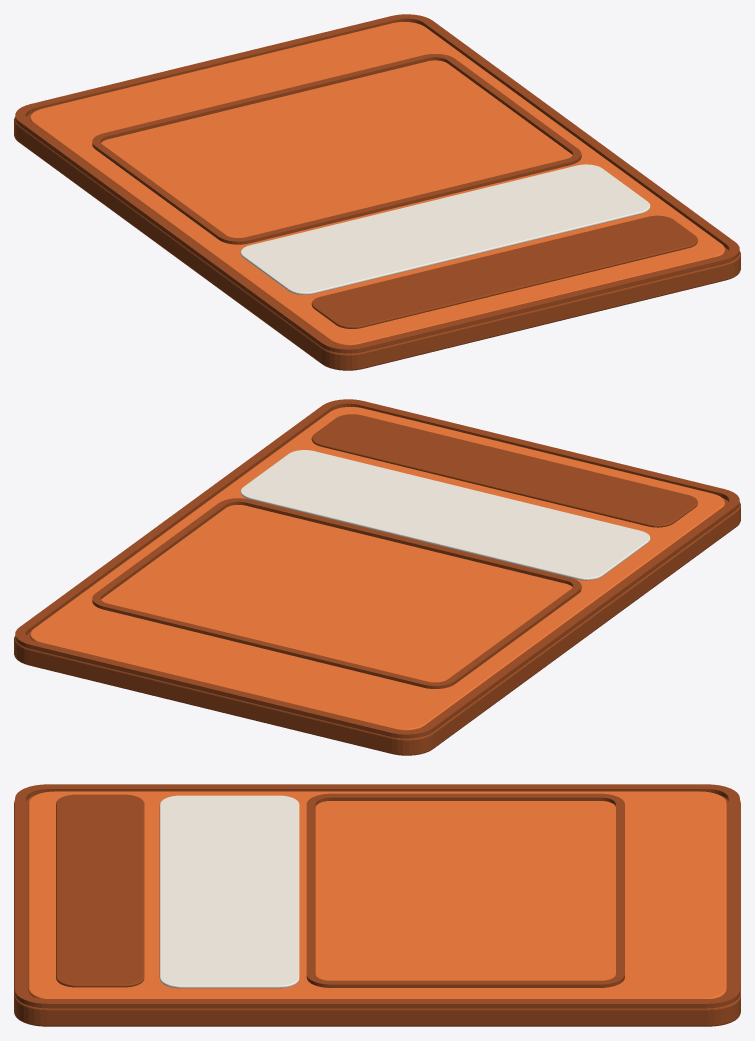
Rendered from card-shell.fbx.
3 renders of one model, top to bottom at view 1: azimuth 30°, elevation 25°; view 2: azimuth 150°, elevation 25°; view 3: azimuth 270°, elevation 25°, orthographic. The views are drawn at different scales.
Parts seen in each view (by area): view 1: Card_Colored_Face, Card_Description_Panel, Card_Outer_Border, Card_Buff_Panel, Card_Body, Card_Artwork_Frame; view 2: Card_Colored_Face, Card_Description_Panel, Card_Outer_Border, Card_Buff_Panel, Card_Body, Card_Artwork_Frame; view 3: Card_Colored_Face, Card_Description_Panel, Card_Outer_Border, Card_Buff_Panel, Card_Body, Card_Artwork_Frame.
Boxes of the visible parts, left/top/right/bottom form: Card_Colored_Face: left=30, top=22, right=724, bottom=345; Card_Description_Panel: left=240, top=164, right=650, bottom=294; Card_Outer_Border: left=15, top=14, right=739, bottom=353; Card_Buff_Panel: left=311, top=215, right=697, bottom=328; Card_Body: left=14, top=113, right=740, bottom=370; Card_Artwork_Frame: left=92, top=54, right=581, bottom=244; Card_Colored_Face: left=30, top=407, right=724, bottom=730; Card_Description_Panel: left=240, top=450, right=650, bottom=580; Card_Outer_Border: left=15, top=399, right=739, bottom=738; Card_Buff_Panel: left=311, top=414, right=697, bottom=527; Card_Body: left=14, top=498, right=740, bottom=755; Card_Artwork_Frame: left=92, top=498, right=581, bottom=688; Card_Colored_Face: left=28, top=791, right=726, bottom=998; Card_Description_Panel: left=159, top=795, right=299, bottom=988; Card_Outer_Border: left=15, top=784, right=739, bottom=1008; Card_Buff_Panel: left=56, top=794, right=144, bottom=987; Card_Body: left=14, top=795, right=740, bottom=1026; Card_Artwork_Frame: left=306, top=793, right=624, bottom=987.
Size of the model in its own units: 2.54 by 0.167 by 3.54.
